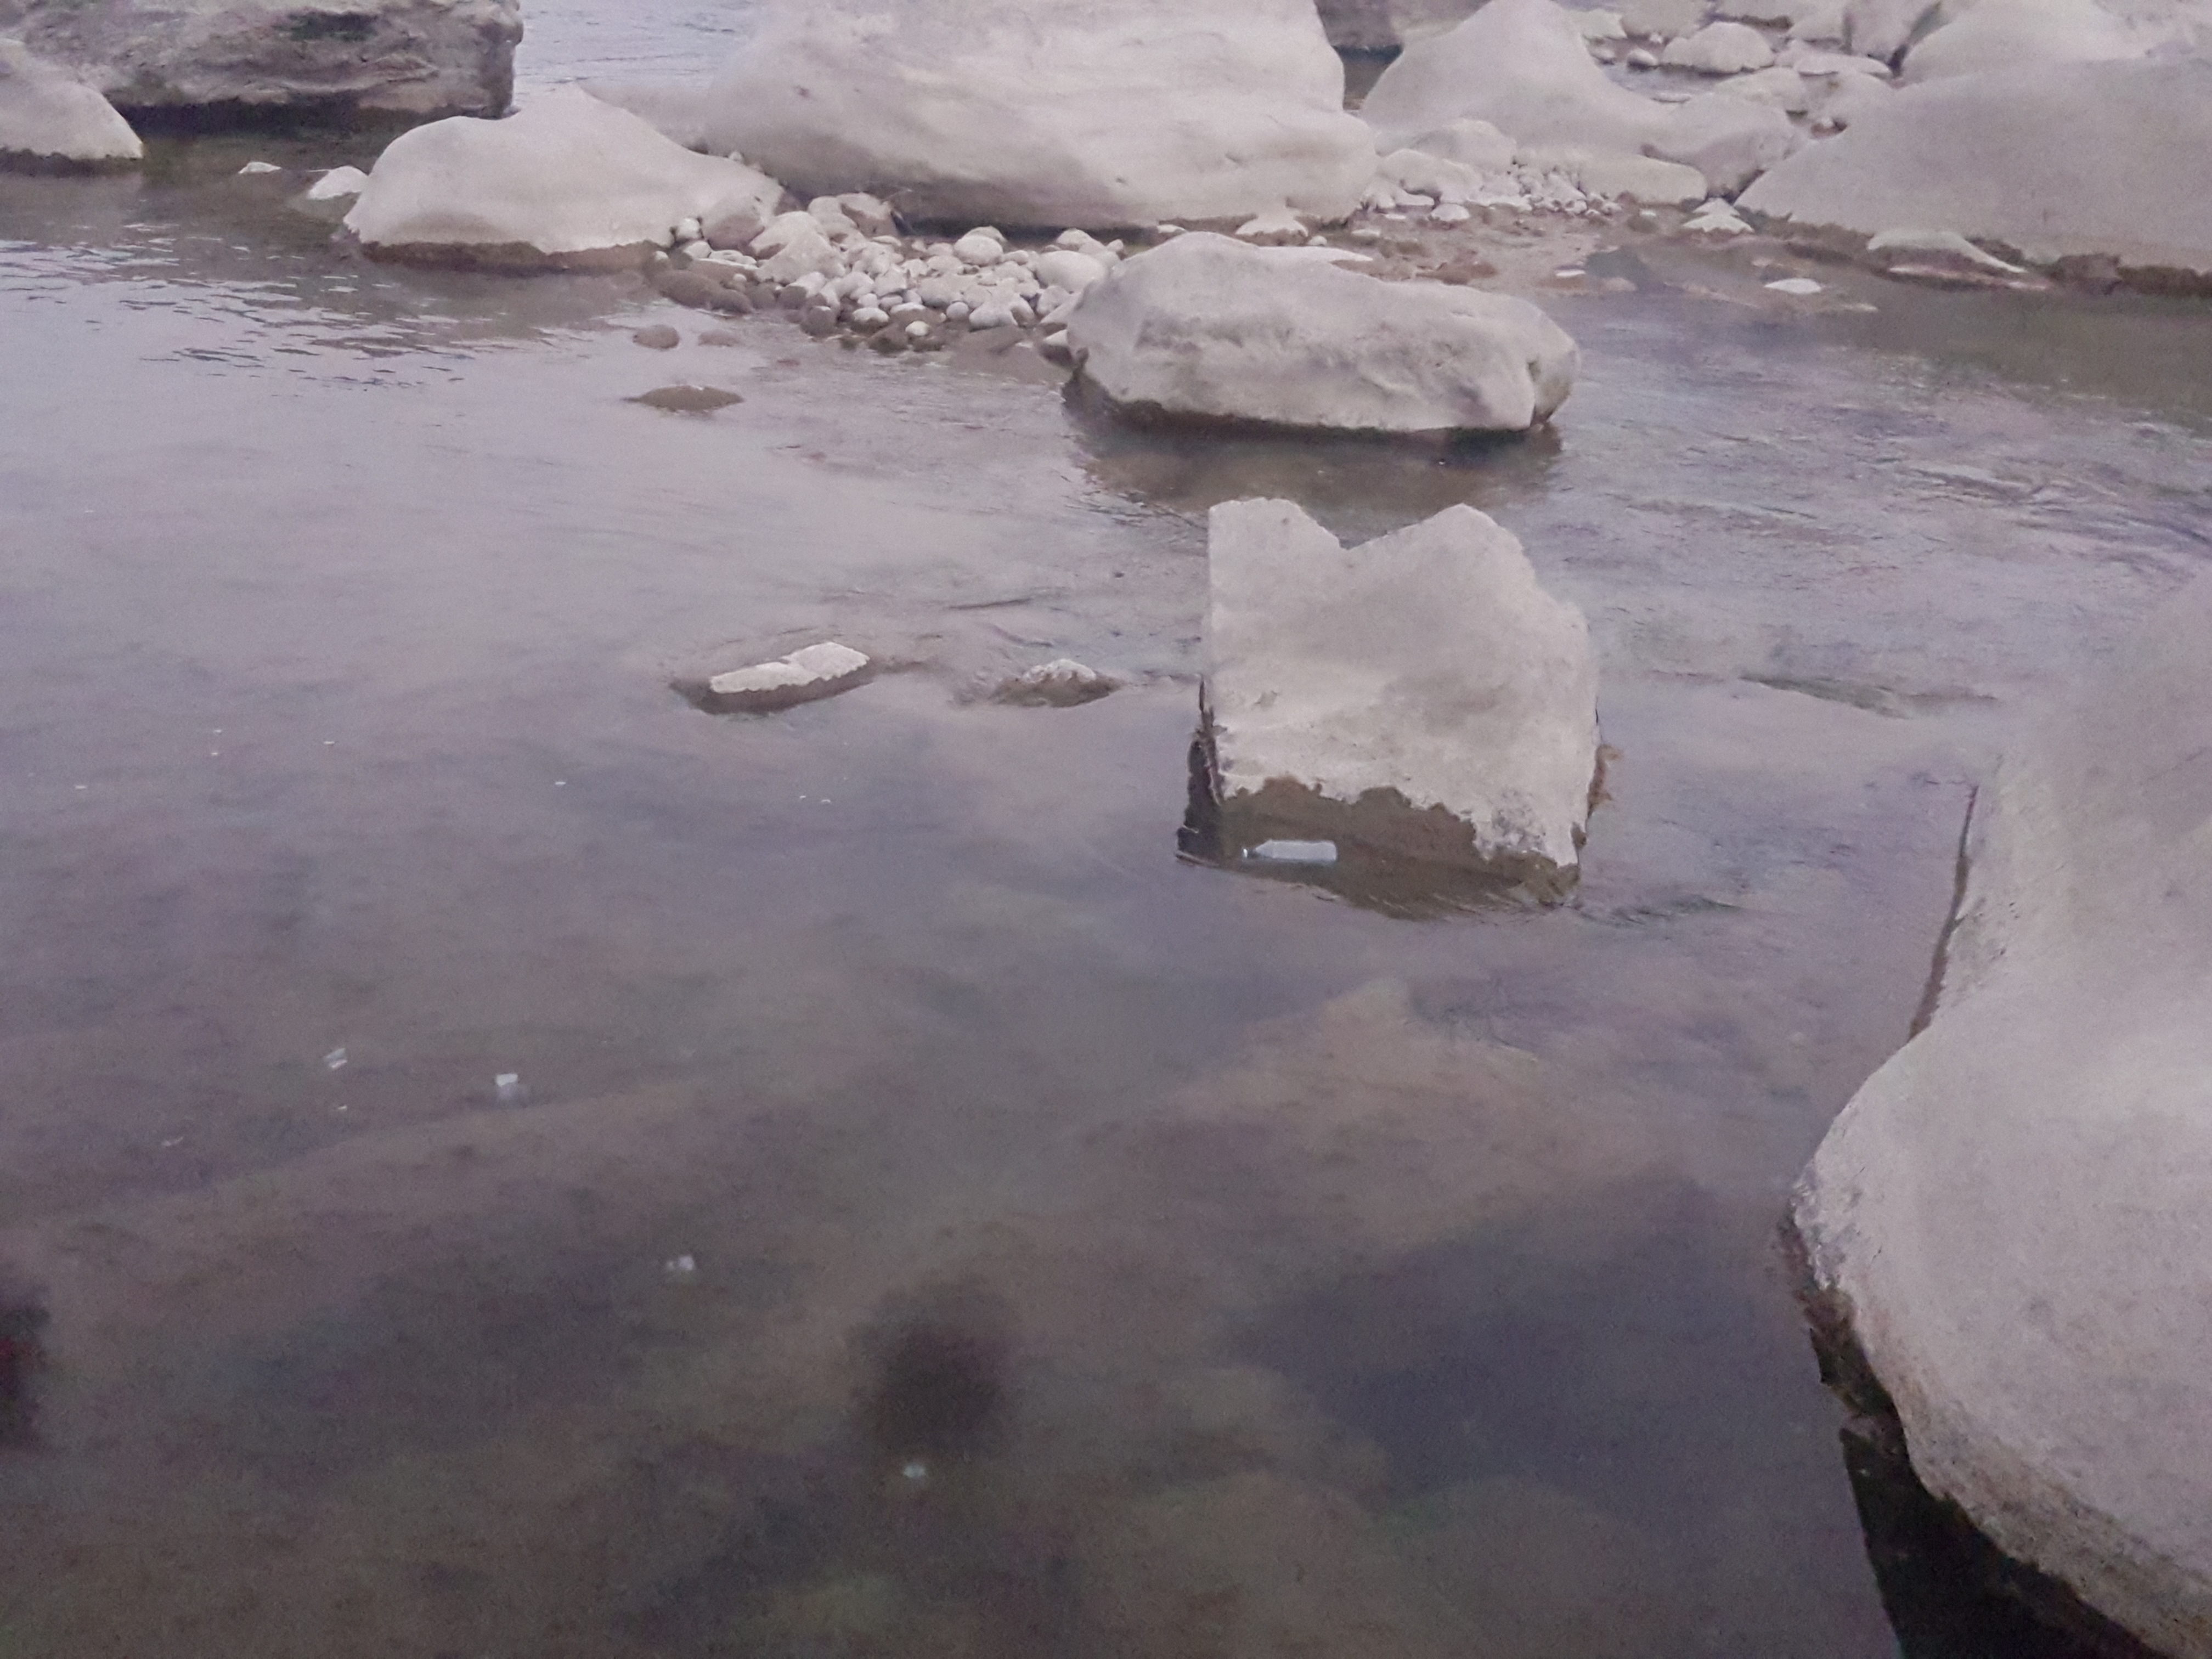Plastic Bottle: (1242, 838, 1336, 863)
